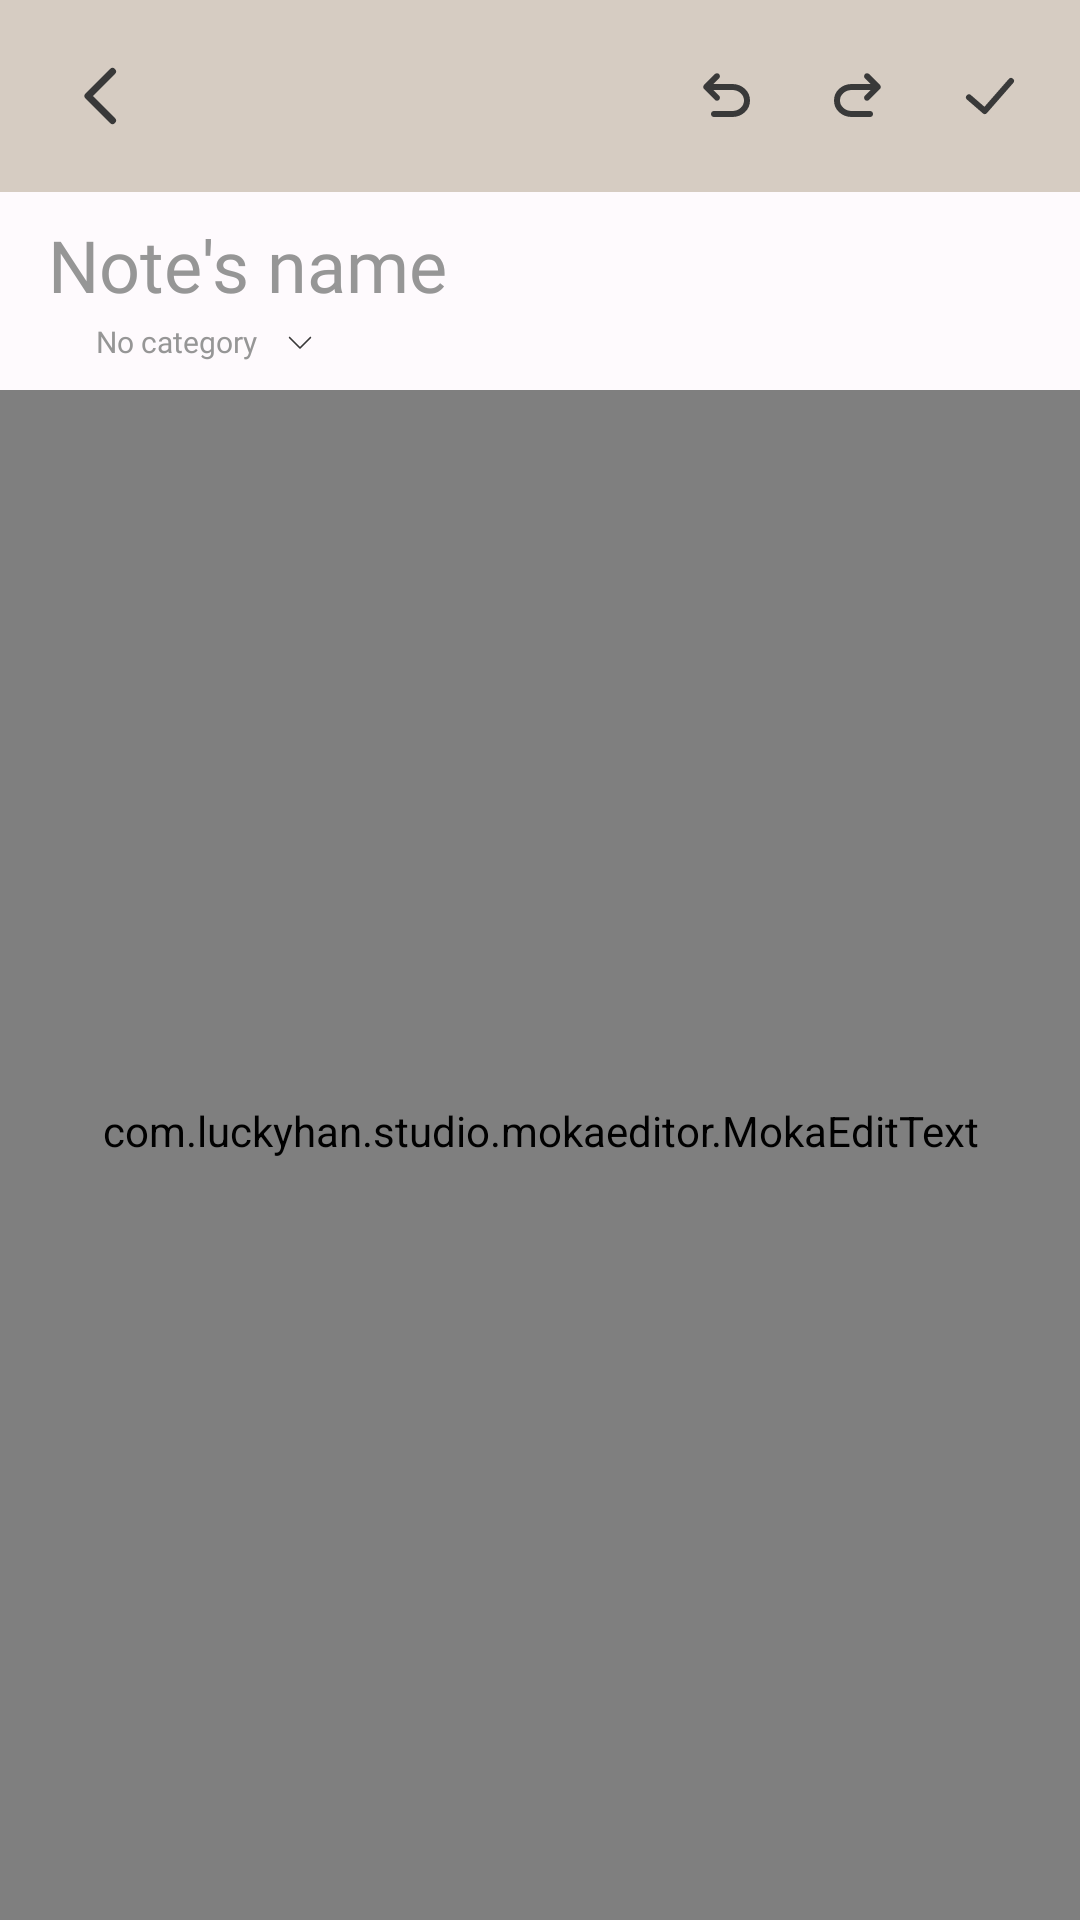

Screen size 1080 x 1920. Icon name, then its box in pixels as (x1, y1, x2, y2):
back: (84, 67, 116, 125)
check: (966, 78, 1014, 114)
redo: (834, 73, 881, 117)
undo: (703, 73, 750, 117)
